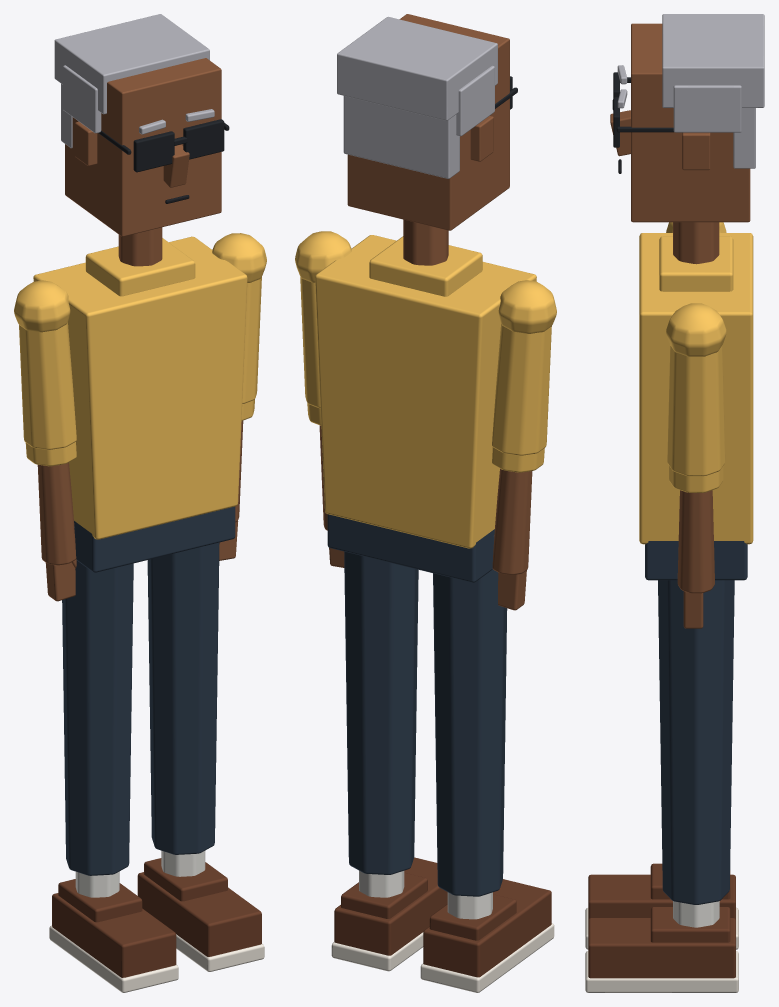
Rendered from Diner_D.glb.
3 views of the same model, side by side, from view 1: azimuth 30°, elevation 25°; view 2: azimuth 150°, elevation 25°; view 3: azimuth 270°, elevation 25° (orthographic). The views are drawn at different scales.
Parts seen in each view (by area): view 1: Diner_D_Torso, Diner_D_LegL, Diner_D_Head, Diner_D_LegR, Diner_D_ArmL, Diner_D_ForearmL, Diner_D_ArmR, Diner_D_ForearmR; view 2: Diner_D_Torso, Diner_D_LegL, Diner_D_Head, Diner_D_LegR, Diner_D_ArmL, Diner_D_ForearmL, Diner_D_ArmR, Diner_D_ForearmR; view 3: Diner_D_LegR, Diner_D_Head, Diner_D_Torso, Diner_D_ArmR, Diner_D_ForearmR, Diner_D_LegL.
Boxes of the visible parts, x1,y1,x2,y2 form: Diner_D_Torso: [33, 227, 247, 572]; Diner_D_LegL: [49, 526, 178, 992]; Diner_D_Head: [54, 14, 229, 236]; Diner_D_LegR: [137, 542, 264, 971]; Diner_D_ArmL: [14, 280, 76, 449]; Diner_D_ForearmL: [25, 442, 76, 601]; Diner_D_ArmR: [212, 233, 266, 403]; Diner_D_ForearmR: [219, 399, 254, 560]; Diner_D_Torso: [315, 219, 536, 582]; Diner_D_LegL: [420, 535, 554, 992]; Diner_D_Head: [337, 14, 517, 230]; Diner_D_LegR: [331, 551, 447, 971]; Diner_D_ArmL: [492, 280, 556, 455]; Diner_D_ForearmL: [492, 447, 544, 610]; Diner_D_ArmR: [295, 231, 351, 408]; Diner_D_ForearmR: [307, 403, 344, 567]; Diner_D_LegR: [585, 580, 738, 992]; Diner_D_Head: [610, 14, 764, 222]; Diner_D_Torso: [639, 222, 753, 580]; Diner_D_ArmR: [666, 303, 726, 476]; Diner_D_ForearmR: [669, 465, 723, 628]; Diner_D_LegL: [585, 863, 738, 949].
Bounding box in the file's own units: 0.5128 × 1.78 × 0.315.
